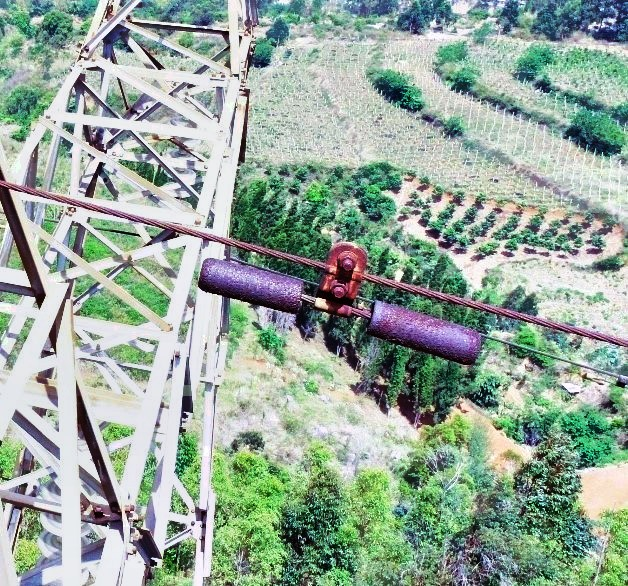Shockproof hammer: (190, 226, 493, 370)
